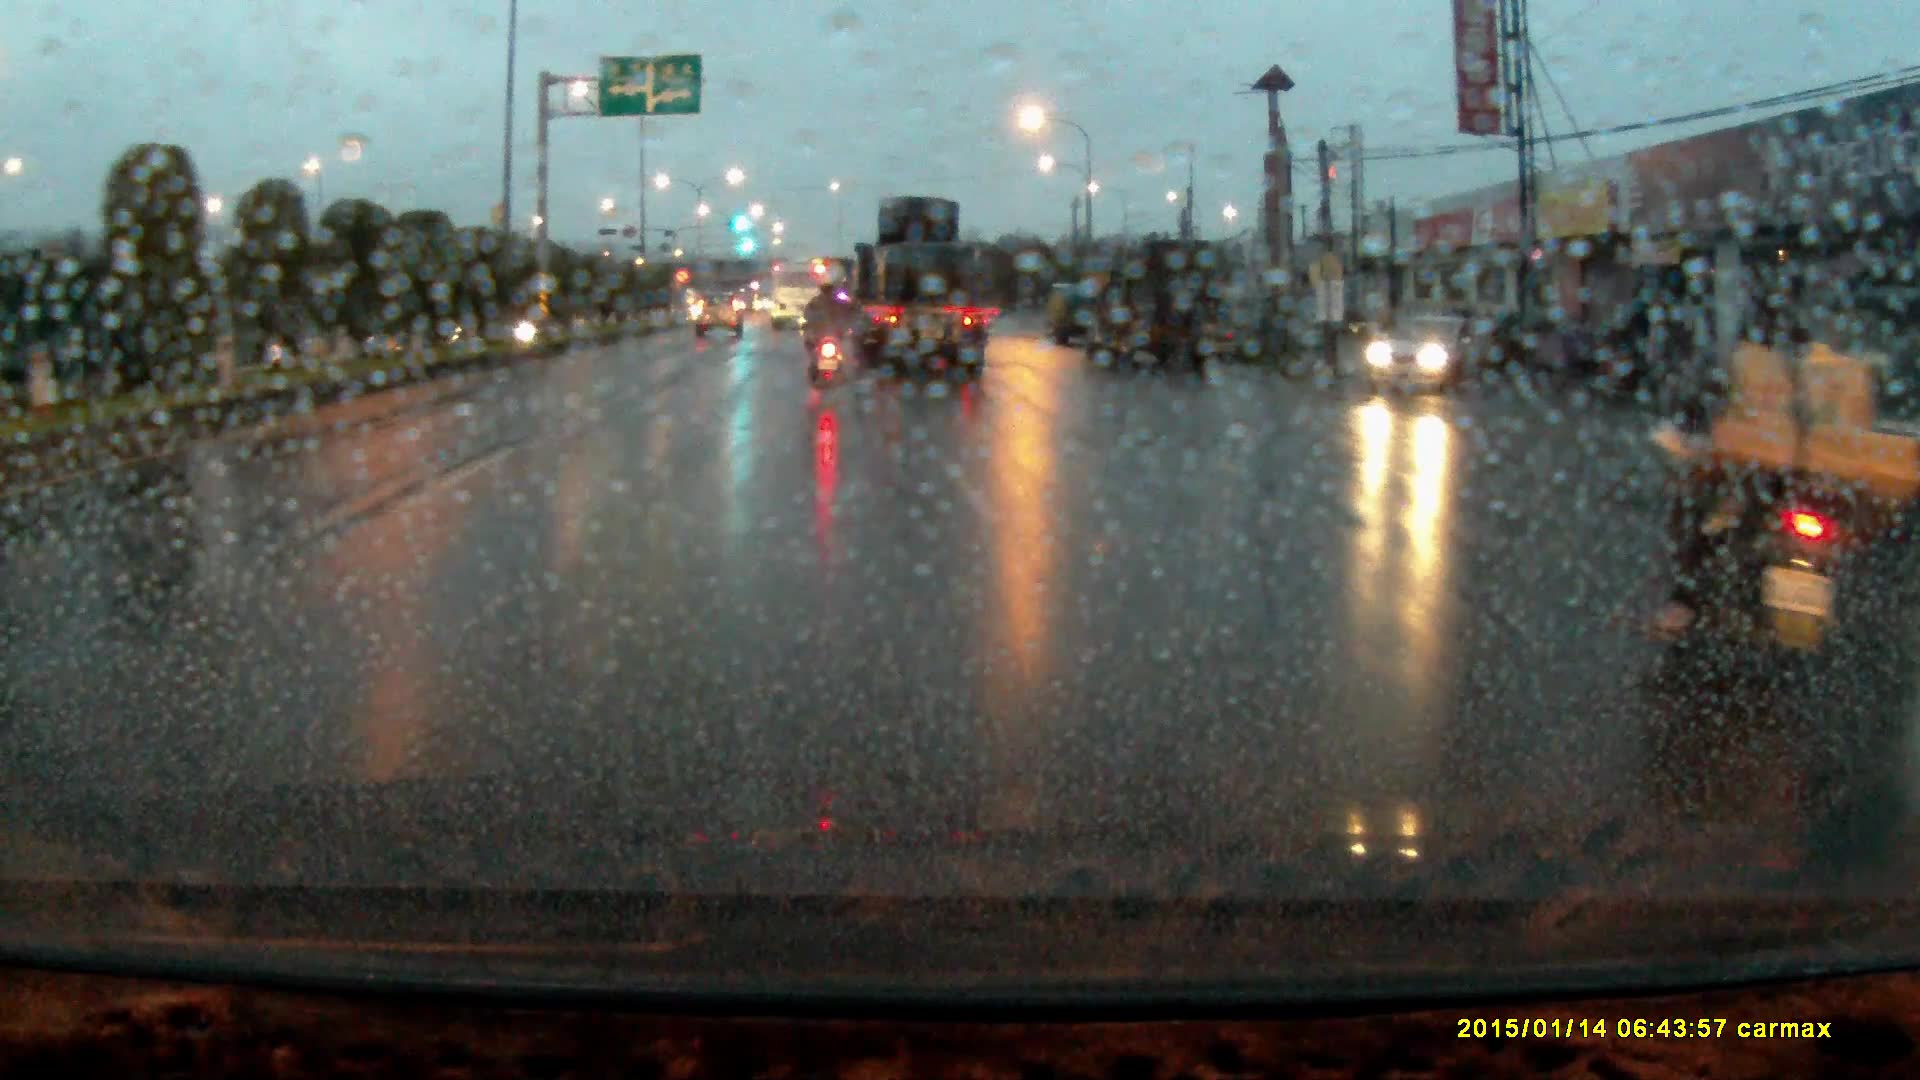rider: (1640, 249, 1916, 674), (803, 272, 859, 399)
vehicle: (846, 195, 985, 376), (1092, 236, 1234, 375), (1366, 315, 1498, 399), (772, 263, 835, 328), (1048, 282, 1098, 344), (695, 291, 745, 340)
